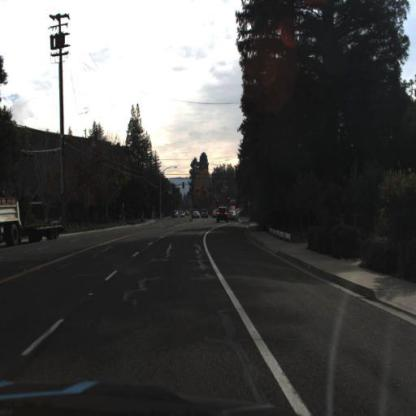car: (216, 207, 230, 224), (227, 209, 239, 224)
truck: (1, 191, 65, 249)
